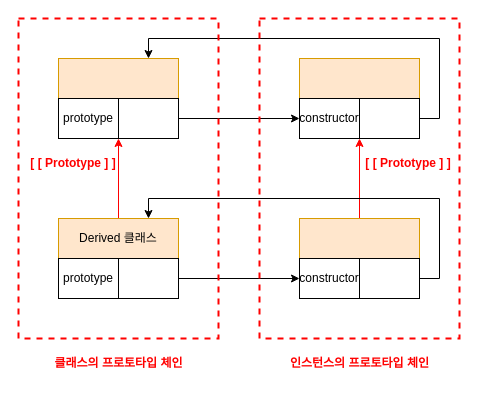
Some shapes in this 477 by 395 pixel diagram are drawn without their labels. Here are the shapes that lost their labels. From the top down, the box of each, then its label:
(58, 58, 178, 98): Base 클래스
(298, 58, 420, 98): Base.prototype
(298, 218, 420, 258): Derived.prototype
